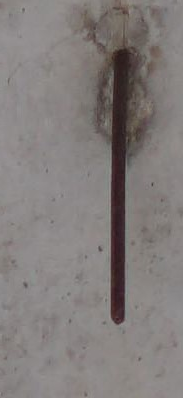Exposed reinforcement: (109, 48, 130, 325)
Spalling: (93, 6, 154, 147)
